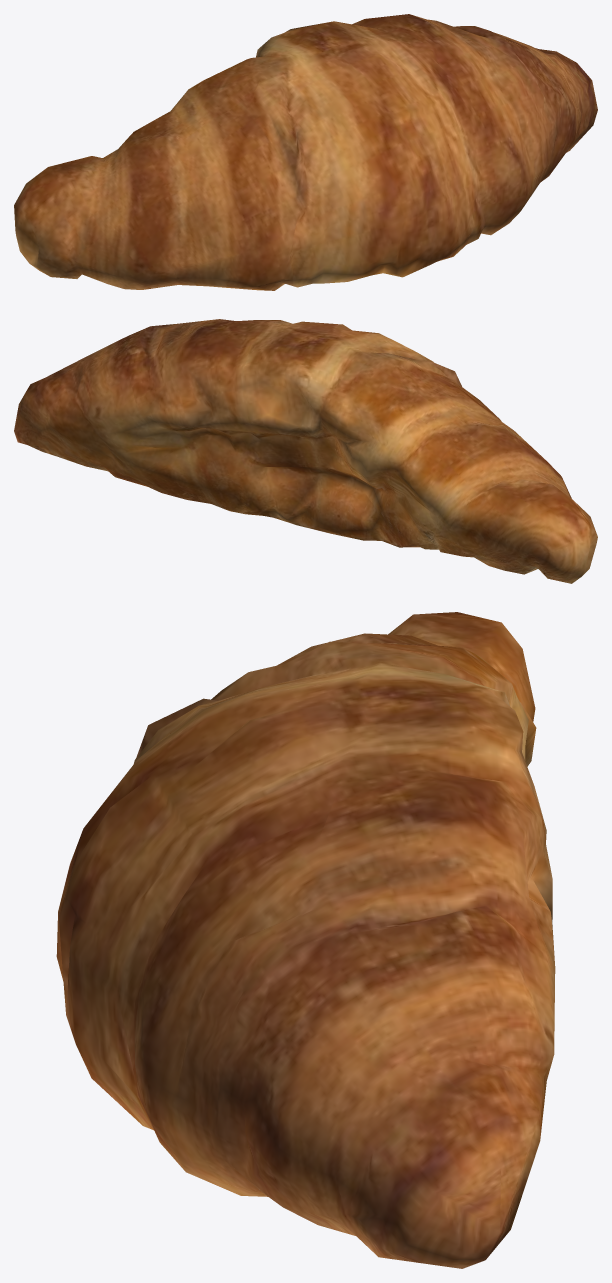
Rendered from croissant.glb.
3 renders of one model, top to bottom at view 1: azimuth 30°, elevation 25°; view 2: azimuth 150°, elevation 25°; view 3: azimuth 270°, elevation 25°, orthographic. The views are drawn at different scales.
Parts seen in each view (by area): view 1: croissant; view 2: croissant; view 3: croissant.
Part boxes in pixels (x1=…): croissant: x1=14, y1=14, x2=597, y2=290; croissant: x1=14, y1=319, x2=597, y2=583; croissant: x1=56, y1=612, x2=555, y2=1268.
Size of the model in its own units: 0.1993 by 0.0617 by 0.0755.
1 material, 1 textured.
